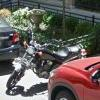Motorcycle: (8, 28, 75, 90)
